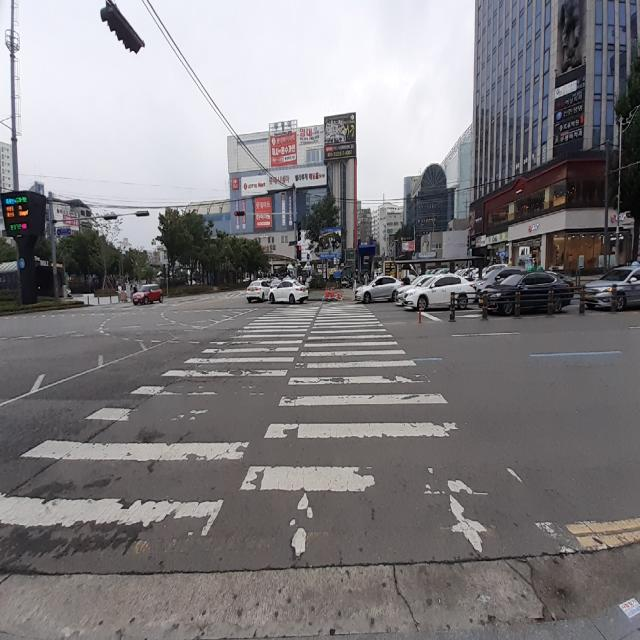횡단보도: (0, 300, 498, 559)
